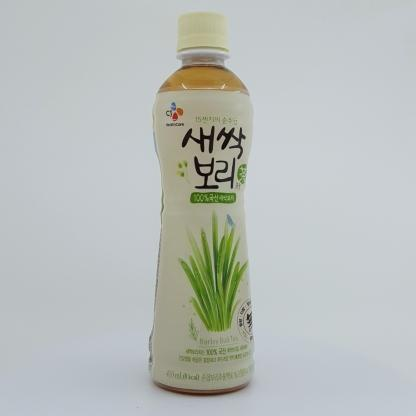CJ-----410ML: (149, 11, 255, 393)
